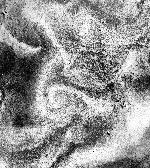CE: (40, 85, 77, 121)
